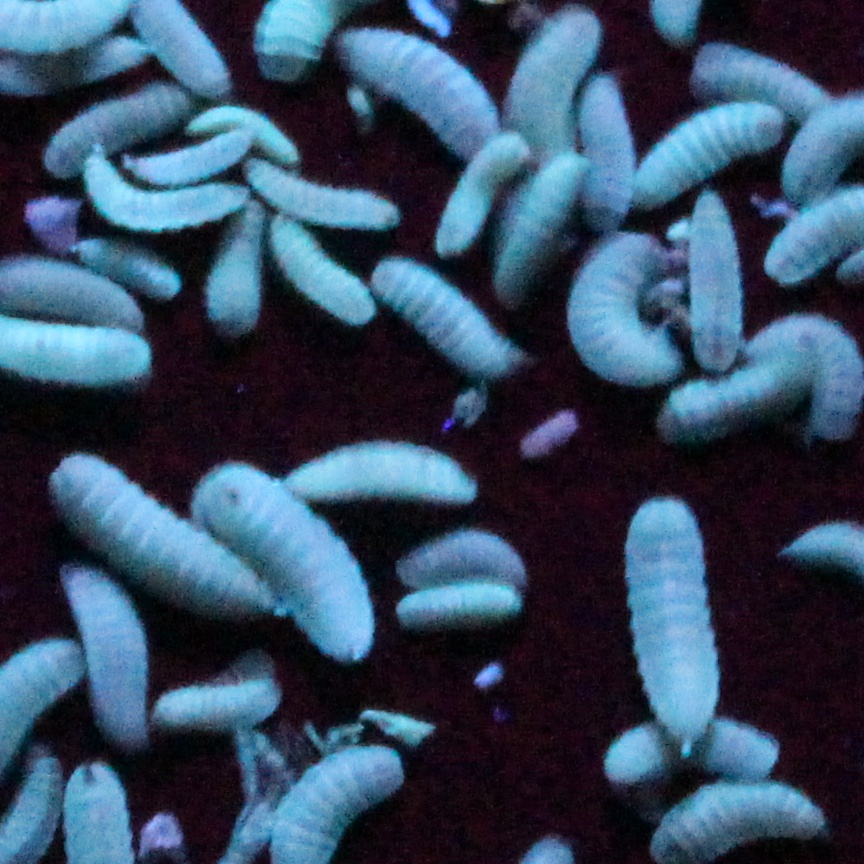larve: (43, 450, 277, 621), (190, 464, 377, 662), (616, 497, 724, 744), (363, 252, 522, 383), (324, 31, 494, 152), (557, 238, 682, 382), (57, 562, 153, 748), (628, 107, 777, 207), (502, 11, 600, 162), (492, 156, 590, 305), (665, 356, 812, 446), (82, 150, 247, 227), (277, 438, 477, 501), (47, 91, 188, 180), (682, 187, 745, 370), (265, 223, 384, 319), (245, 162, 402, 229), (441, 136, 528, 256), (614, 725, 782, 787), (694, 48, 828, 125), (390, 527, 528, 587), (579, 76, 633, 227), (188, 101, 306, 170), (208, 201, 261, 332), (75, 240, 190, 299), (149, 678, 281, 725), (396, 587, 518, 634), (126, 136, 255, 180)
